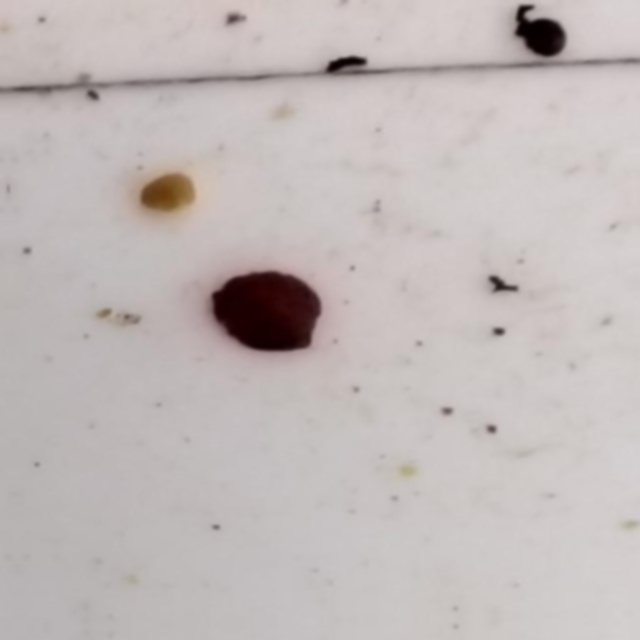varroa: (522, 17, 569, 60)
